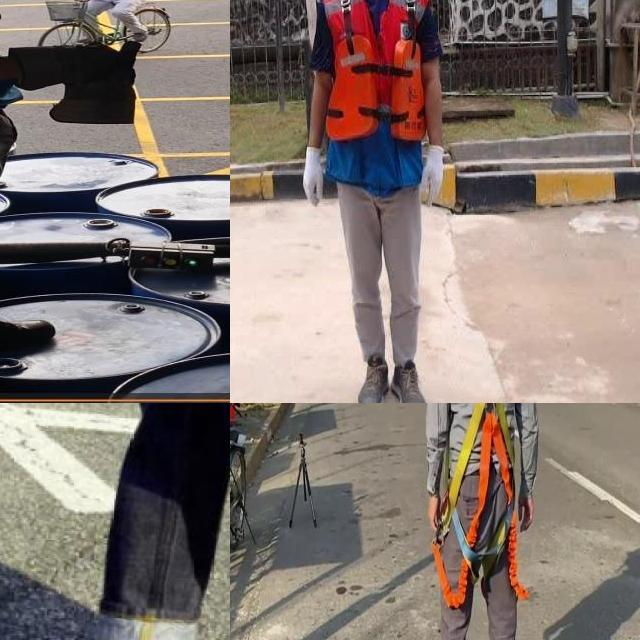Harness: (432, 403, 528, 610)
Sandals: (0, 581, 175, 640)
boots: (355, 350, 389, 403), (390, 358, 429, 403)
person: (274, 0, 493, 403)
vest: (319, 0, 430, 192)
